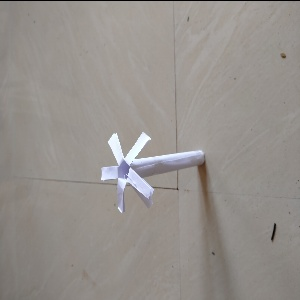weed: (92, 120, 214, 219)
